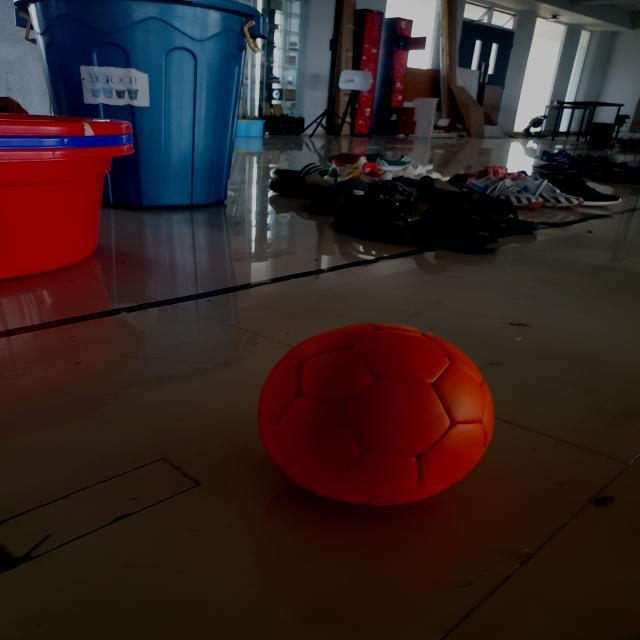bola: (256, 316, 498, 520)
